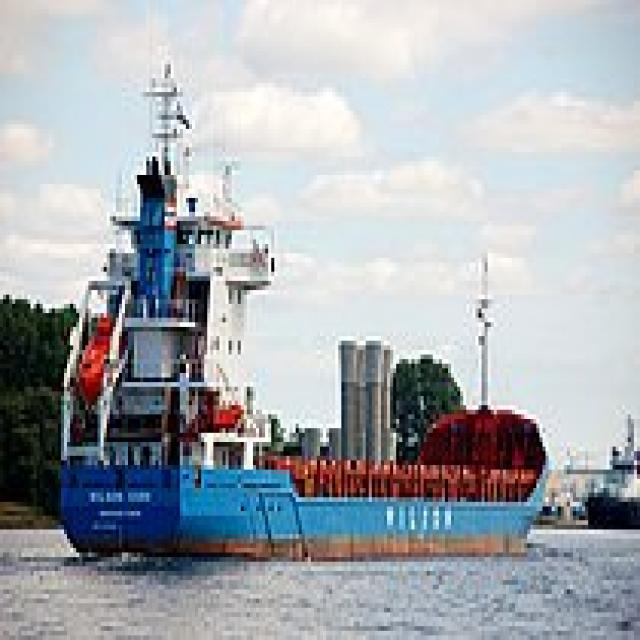Cargo: (51, 51, 552, 562)
